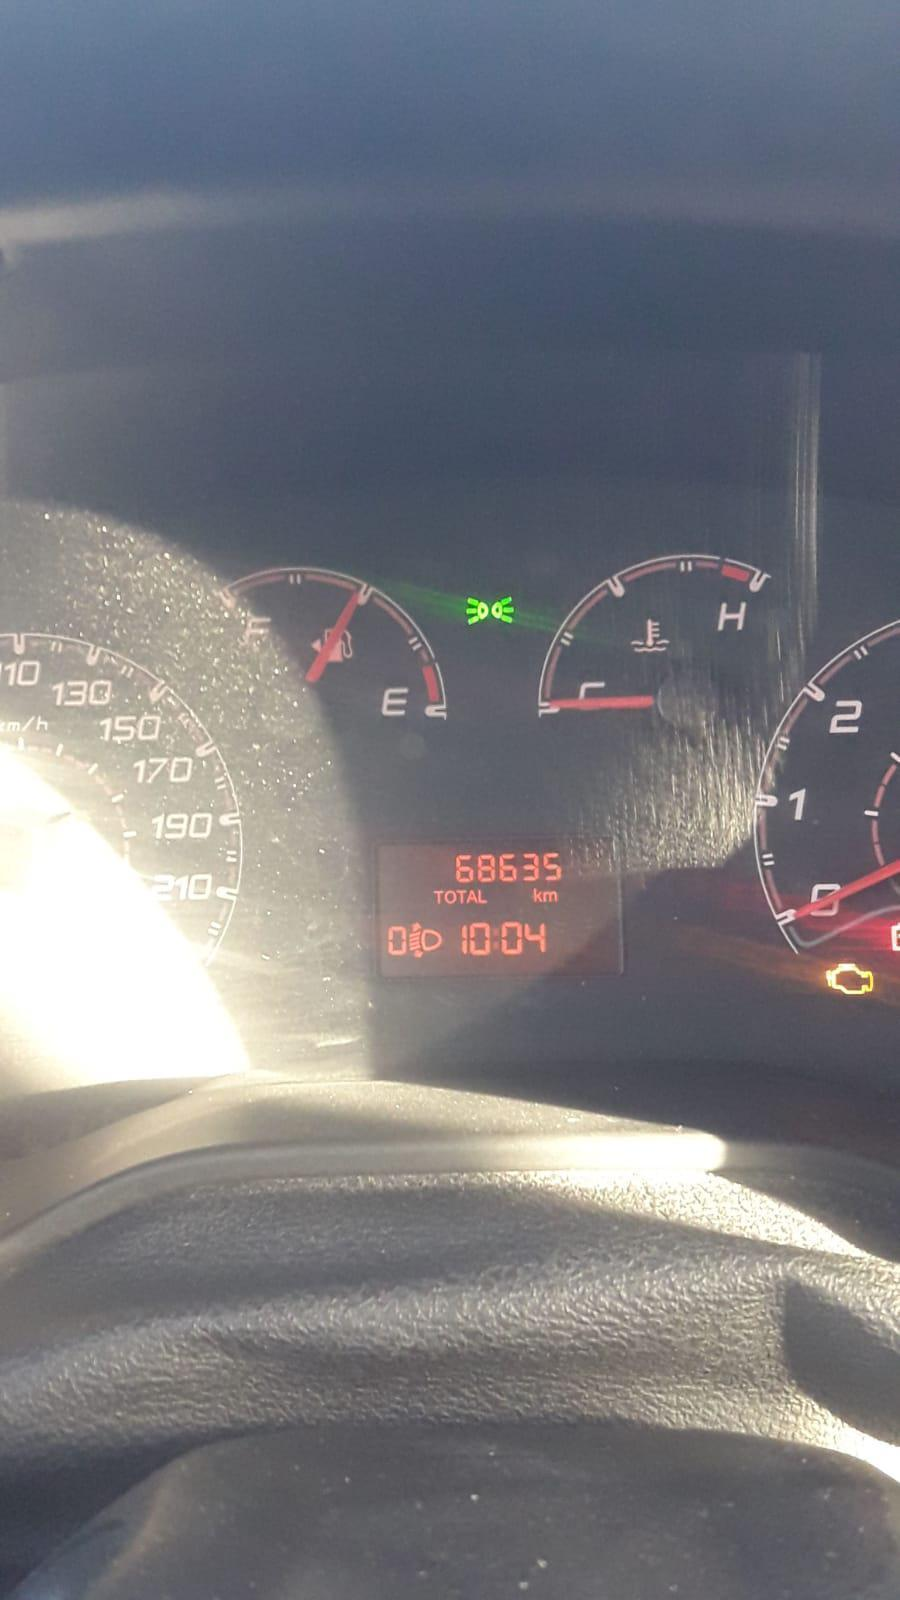0: (500, 919, 523, 956), (469, 921, 489, 955), (386, 924, 405, 956)
1: (459, 922, 470, 954)
3: (521, 851, 542, 884)
4: (524, 921, 548, 954)
5: (543, 851, 562, 882)
6: (453, 853, 473, 884), (498, 852, 516, 884)
8: (476, 851, 496, 884)
X: (543, 889, 559, 904), (475, 888, 488, 905), (432, 889, 445, 905), (531, 886, 543, 903), (444, 887, 455, 905), (491, 926, 499, 953), (456, 888, 466, 905), (466, 888, 475, 907)
odometer: (371, 837, 627, 984)
